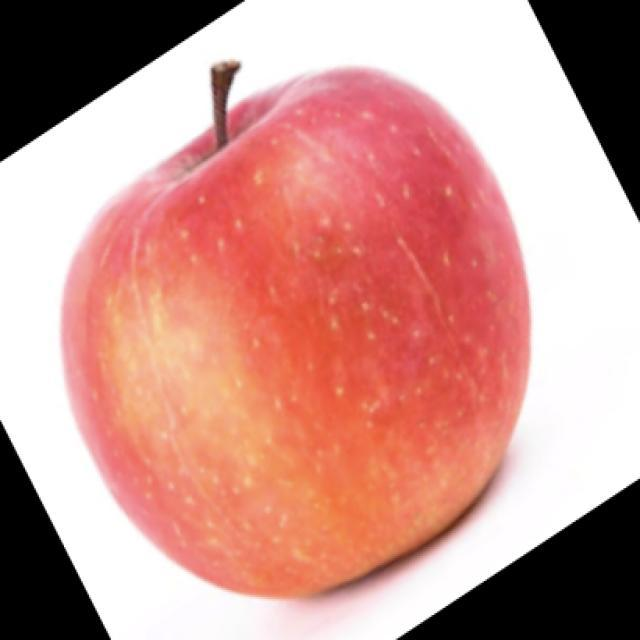Fresh Apple: (85, 82, 518, 573)
